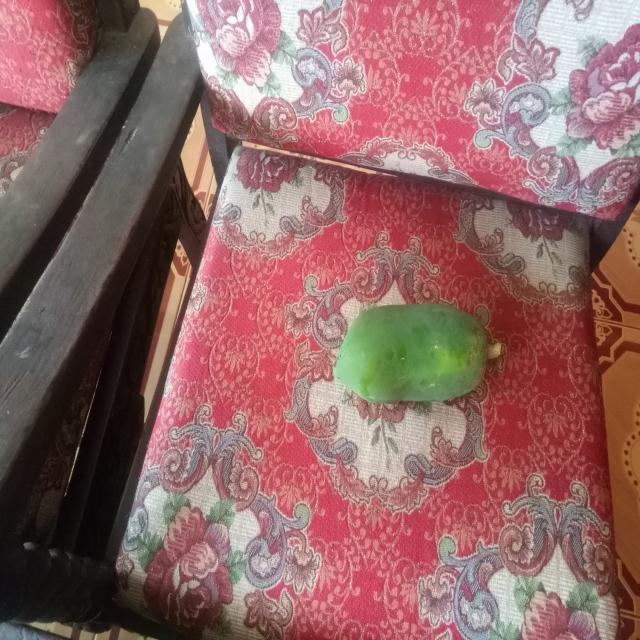Pepaya unrippen: (326, 292, 510, 434)
